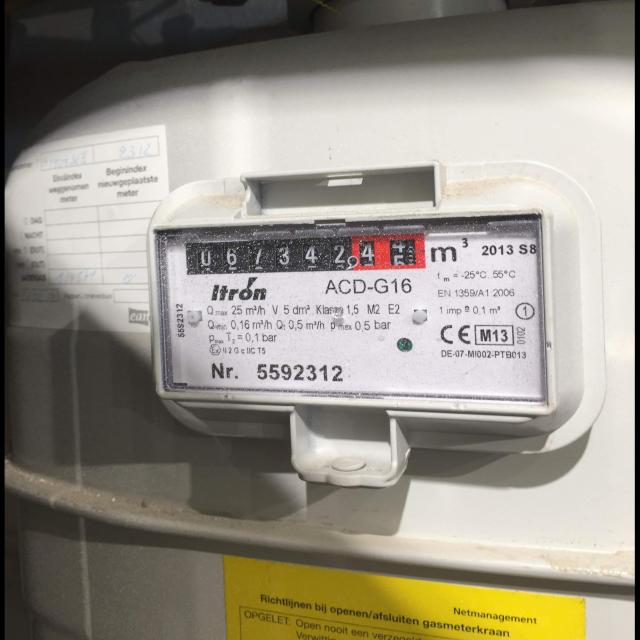gaz_meter: (154, 229, 548, 402)
indication: (181, 233, 427, 280)
